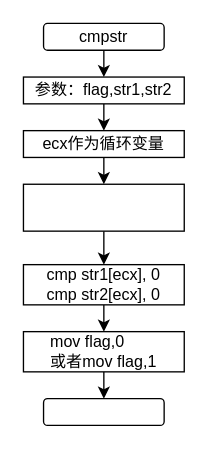
The diagram is 208 pixels wide and 449 high, and some of its shapes have lost their labels. Here are the shapes that lost their labels. From the top down, the centre of each, then its label:
[103,207]: mov dl, str1[ecx] cmp dl, str2[ecx]
[103,411]: exit
